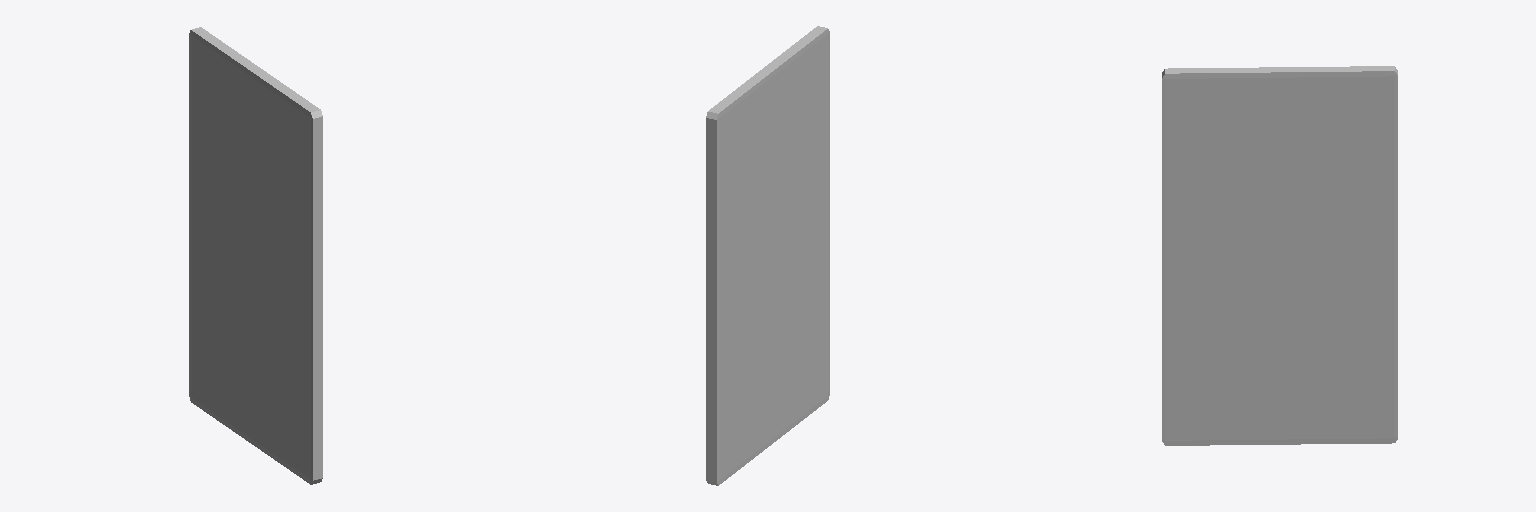
File: CardUpradge_animation.obj
3 renders of one model, left to right at view 1: azimuth 30°, elevation 25°; view 2: azimuth 150°, elevation 25°; view 3: azimuth 270°, elevation 25°, orthographic.
Parts seen in each view (by area): view 1: Cube; view 2: Cube; view 3: Cube.
Part boxes in pixels (bbox=[...]): Cube: bbox=[189, 27, 322, 484]; Cube: bbox=[706, 26, 829, 485]; Cube: bbox=[1162, 66, 1397, 445].
Bounding box in the file's own units: 0.1558 × 3.47 × 2.